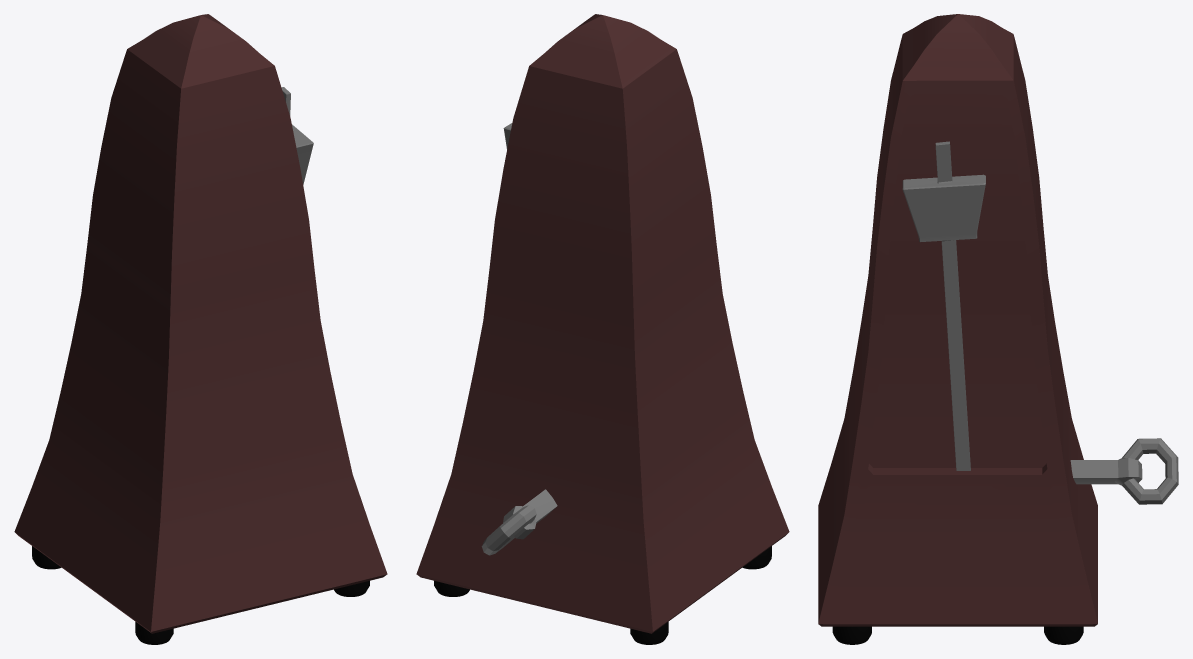
File: Metronome.fbx
3 views of the same model, side by side, from view 1: azimuth 30°, elevation 25°; view 2: azimuth 150°, elevation 25°; view 3: azimuth 270°, elevation 25° (orthographic). The views are drawn at different scales.
Parts seen in each view (by area): view 1: Metronome_Foot05; view 2: Metronome_Foot05; view 3: Metronome_Foot05.
Boxes of the visible parts, bbox=[...] form: Metronome_Foot05: bbox=[14, 14, 387, 644]; Metronome_Foot05: bbox=[416, 14, 789, 644]; Metronome_Foot05: bbox=[818, 14, 1178, 644].
Bounding box in the file's own units: 4.96 × 11.25 × 6.39.
